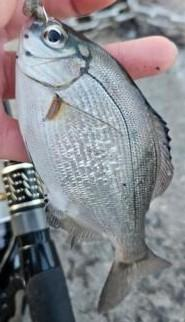fish: (3, 16, 174, 314)
